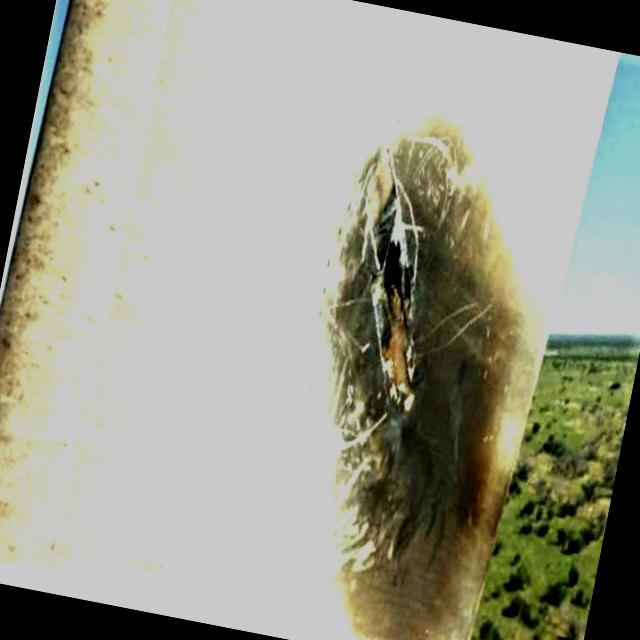crack: (270, 112, 547, 618)
